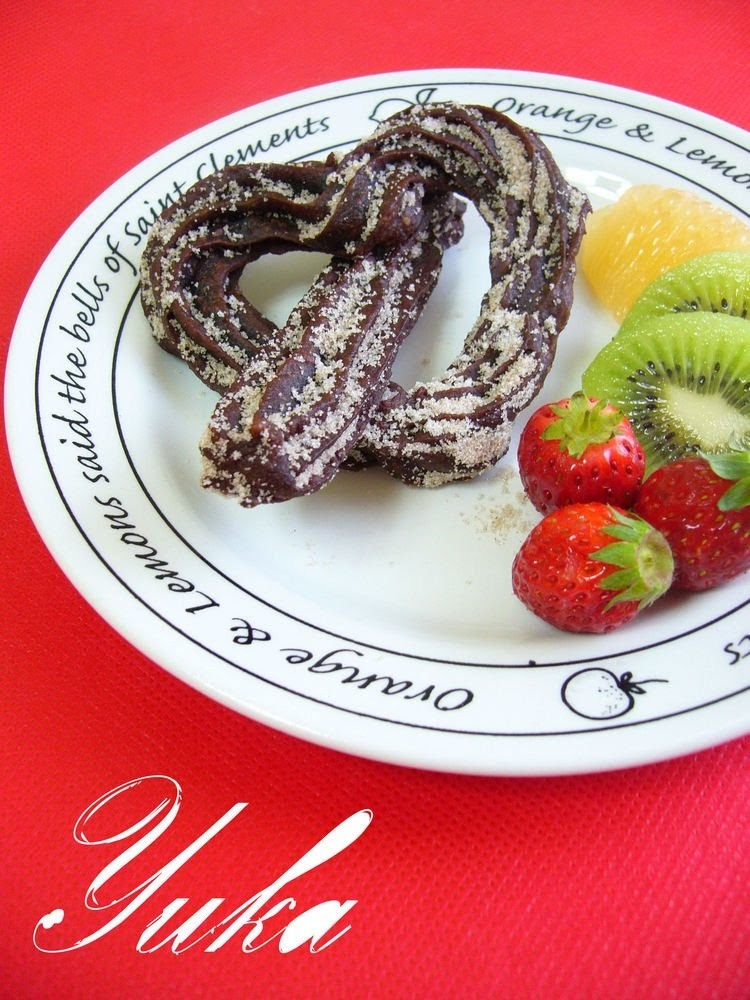background: (163, 153, 750, 992)
